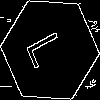L: (25, 25, 73, 71)
